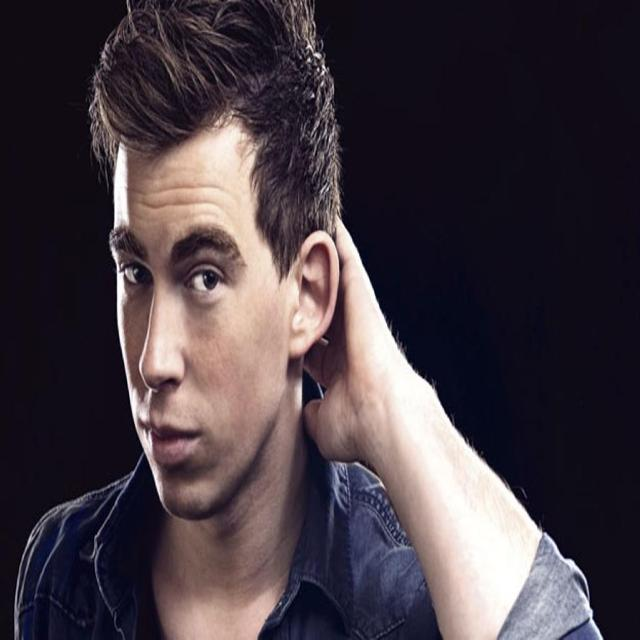Face: (109, 134, 277, 515)
